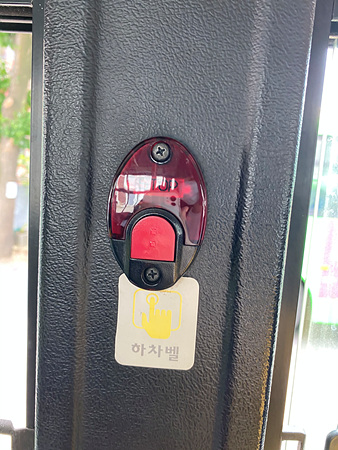bell: (107, 136, 207, 289)
